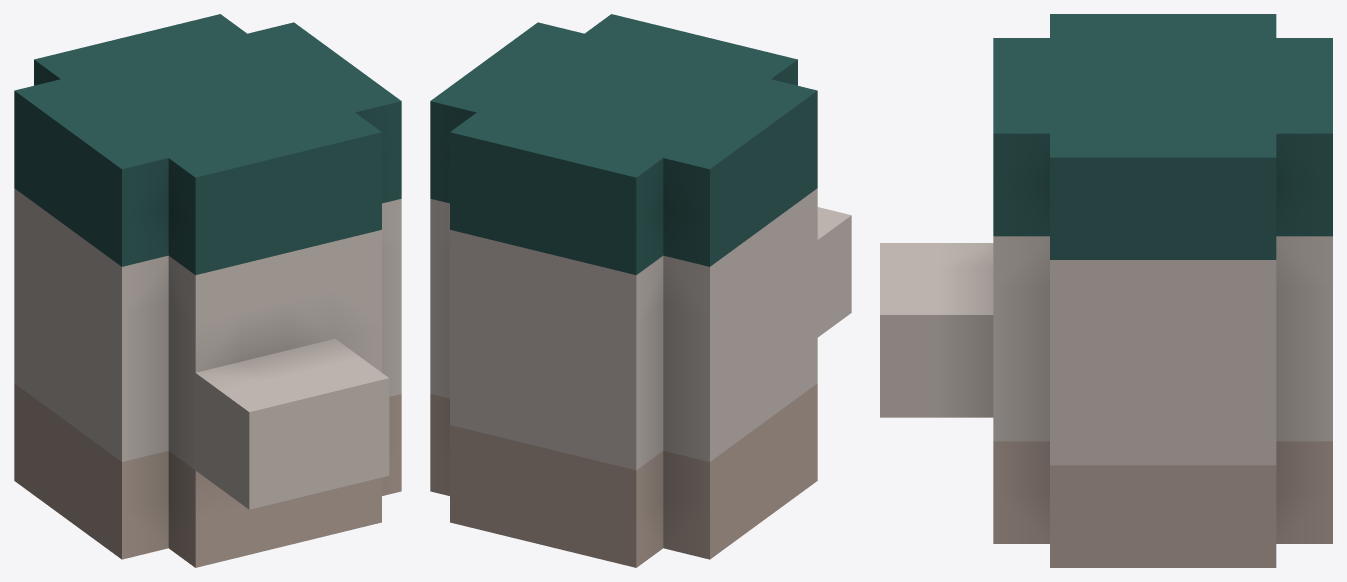
Rendered from hand.glb.
3 views of the same model, side by side, from view 1: azimuth 30°, elevation 25°; view 2: azimuth 150°, elevation 25°; view 3: azimuth 270°, elevation 25° (orthographic). The views are drawn at different scales.
Parts seen in each view (by area): view 1: VoxelVisual__mitten, VoxelVisual__cuff; view 2: VoxelVisual__mitten, VoxelVisual__cuff; view 3: VoxelVisual__mitten, VoxelVisual__cuff.
Part boxes in pixels (x1,y1,x2,y2): VoxelVisual__mitten: (14, 188, 401, 567); VoxelVisual__cuff: (14, 14, 401, 275); VoxelVisual__mitten: (430, 188, 851, 567); VoxelVisual__cuff: (430, 14, 817, 275); VoxelVisual__mitten: (880, 236, 1332, 567); VoxelVisual__cuff: (993, 14, 1332, 259).
Size of what is drawn, in the model's own units: 0.375 by 0.5 by 0.5.
